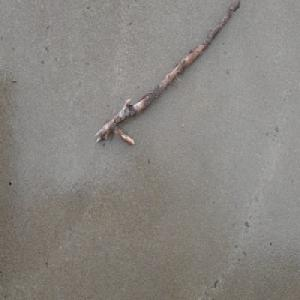Wood: (94, 0, 241, 147)
